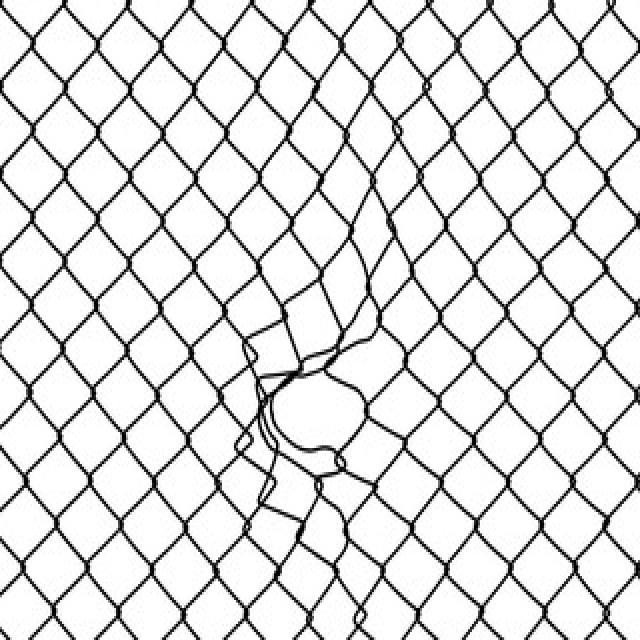fence line: (251, 319, 391, 516)
